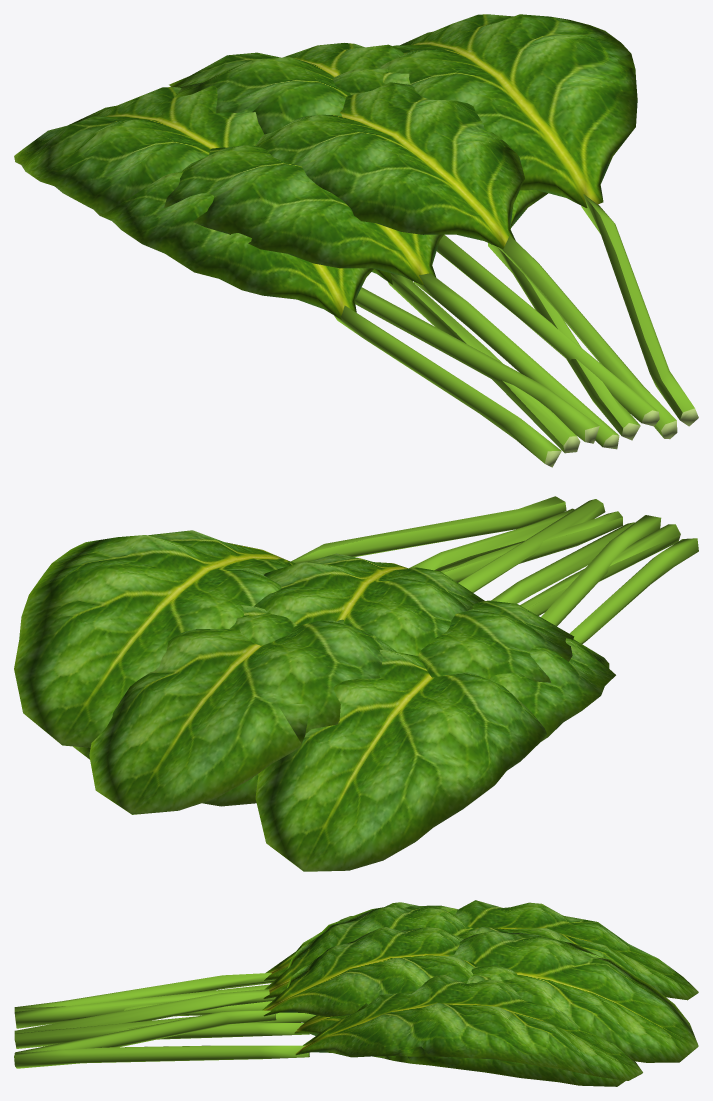
The model's file is NP_Spinach_Harvest_LOD1.fbx.
The picture shows the model from 3 angles, top to bottom: view 1: azimuth 30°, elevation 25°; view 2: azimuth 150°, elevation 25°; view 3: azimuth 270°, elevation 25°; orthographic projection. The views are drawn at different scales.
Parts seen in each view (by area): view 1: NP_Spinach_Harvest; view 2: NP_Spinach_Harvest; view 3: NP_Spinach_Harvest.
Boxes of the visible parts, x1,y1,x2,y2 form: NP_Spinach_Harvest: [14, 14, 698, 467]; NP_Spinach_Harvest: [14, 496, 698, 871]; NP_Spinach_Harvest: [14, 900, 698, 1086].
Bounding box in the file's own units: 47.5 × 13.83 × 72.15.
